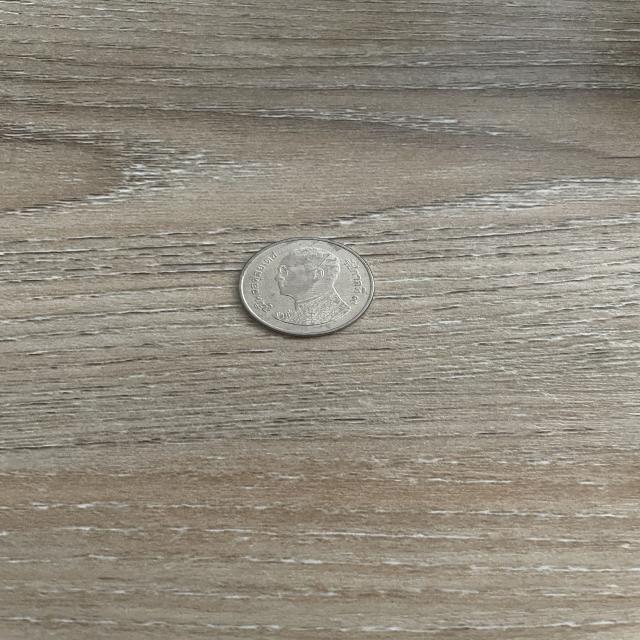1 Bath: (235, 232, 387, 346)
